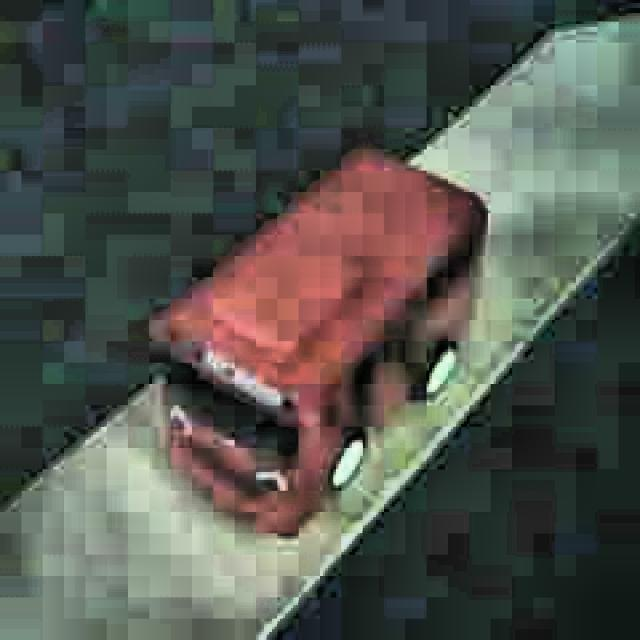bus: (147, 145, 490, 537)
